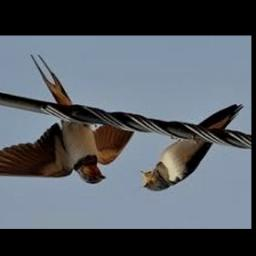Swallow: (0, 55, 136, 184), (141, 104, 246, 190)
